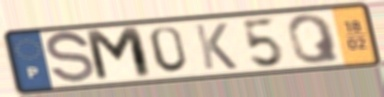0: (147, 25, 190, 76)
5: (240, 16, 286, 69)
K: (192, 21, 240, 71)
M: (82, 25, 156, 85)
Q: (285, 12, 343, 66)
S: (44, 29, 98, 87)
